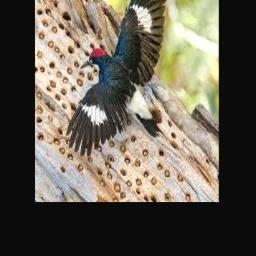Woodpecker: (66, 0, 167, 156)
